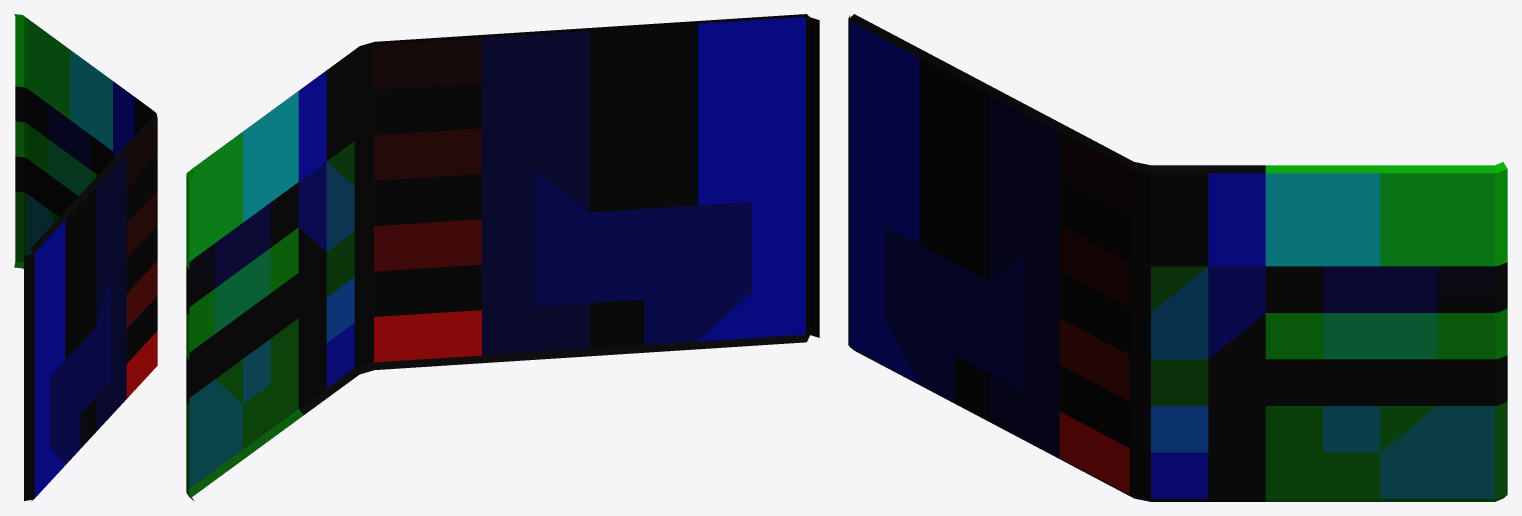
File: bentpanelvaried.fbx
3 renders of one model, left to right at view 1: azimuth 30°, elevation 25°; view 2: azimuth 150°, elevation 25°; view 3: azimuth 270°, elevation 25°, orthographic. The views are drawn at different scales.
Visible parts, largest first — view 1: obj1.013; view 2: obj1.013; view 3: obj1.013.
Part boxes in pixels (<box>): obj1.013: <box>14,14,157,501</box>; obj1.013: <box>186,14,819,501</box>; obj1.013: <box>848,14,1507,501</box>.
Bounding box in the file's own units: 63.34 × 62.5 × 111.
